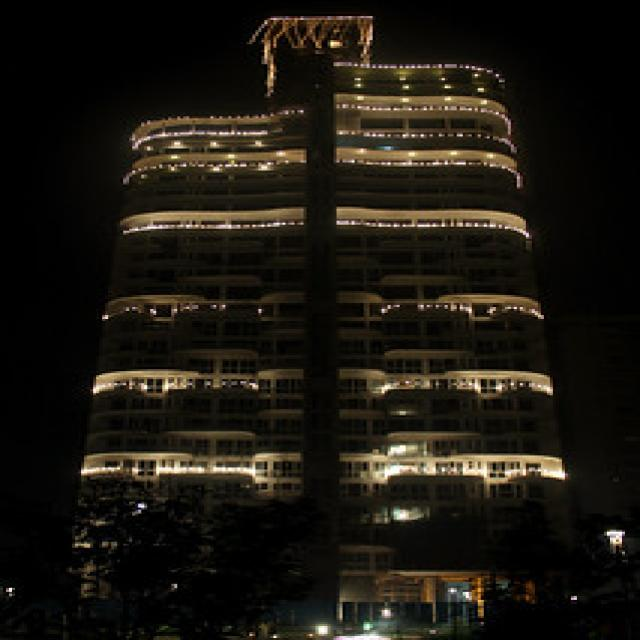building: (66, 14, 592, 640)
